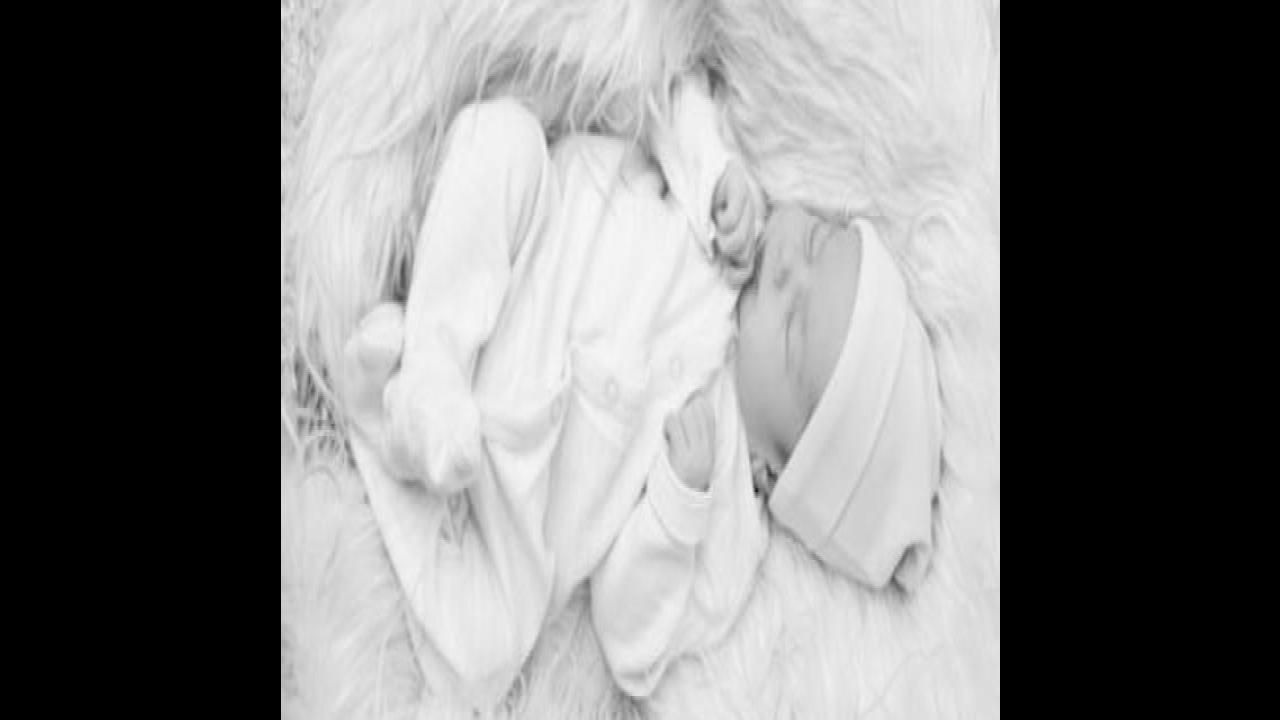hand: (660, 380, 717, 504), (708, 160, 762, 276)
